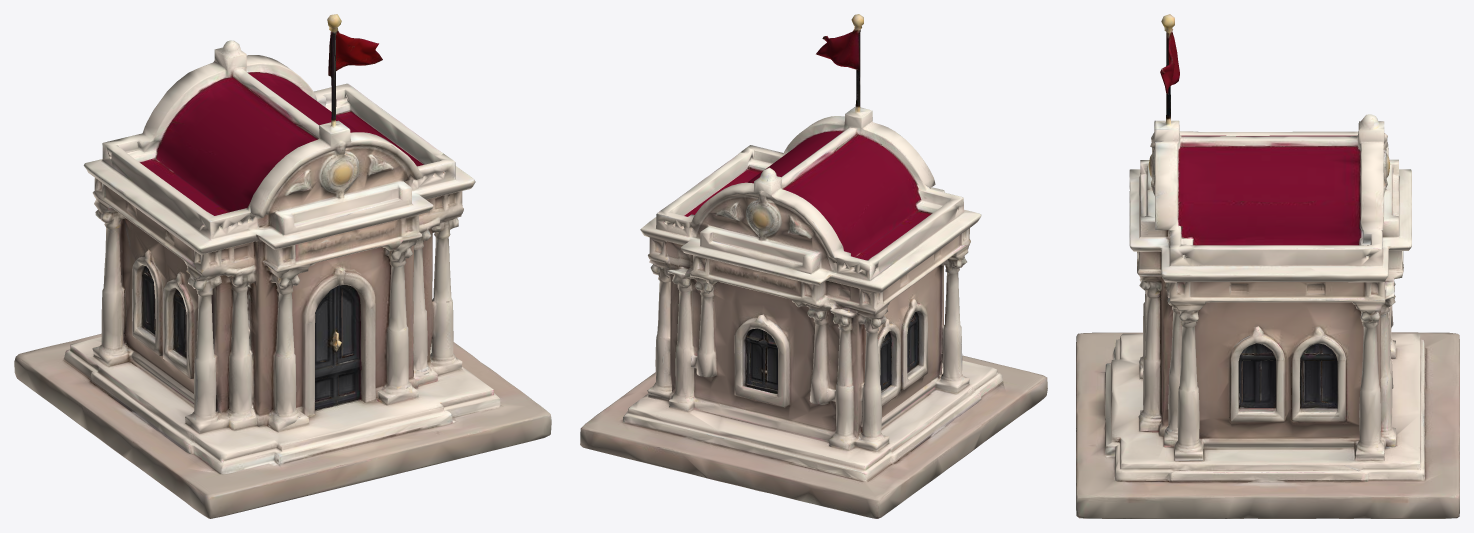
Rendered from special1.glb.
3 views of the same model, side by side, from view 1: azimuth 30°, elevation 25°; view 2: azimuth 150°, elevation 25°; view 3: azimuth 270°, elevation 25° (orthographic). The views are drawn at different scales.
Parts seen in each view (by area): view 1: Mesh_0; view 2: Mesh_0; view 3: Mesh_0.
Boxes of the visible parts, x1,y1,x2,y2 form: Mesh_0: (14, 14, 551, 518); Mesh_0: (580, 14, 1047, 518); Mesh_0: (1076, 14, 1459, 518).
Size of the model in its own units: 1.6 by 1.91 by 1.57.
Materials: 1 (1 with a texture image).
